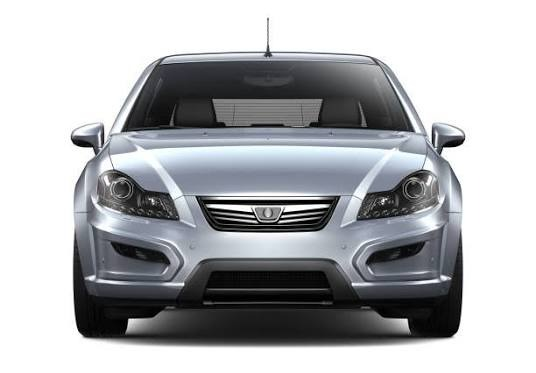car: (65, 44, 469, 337)
